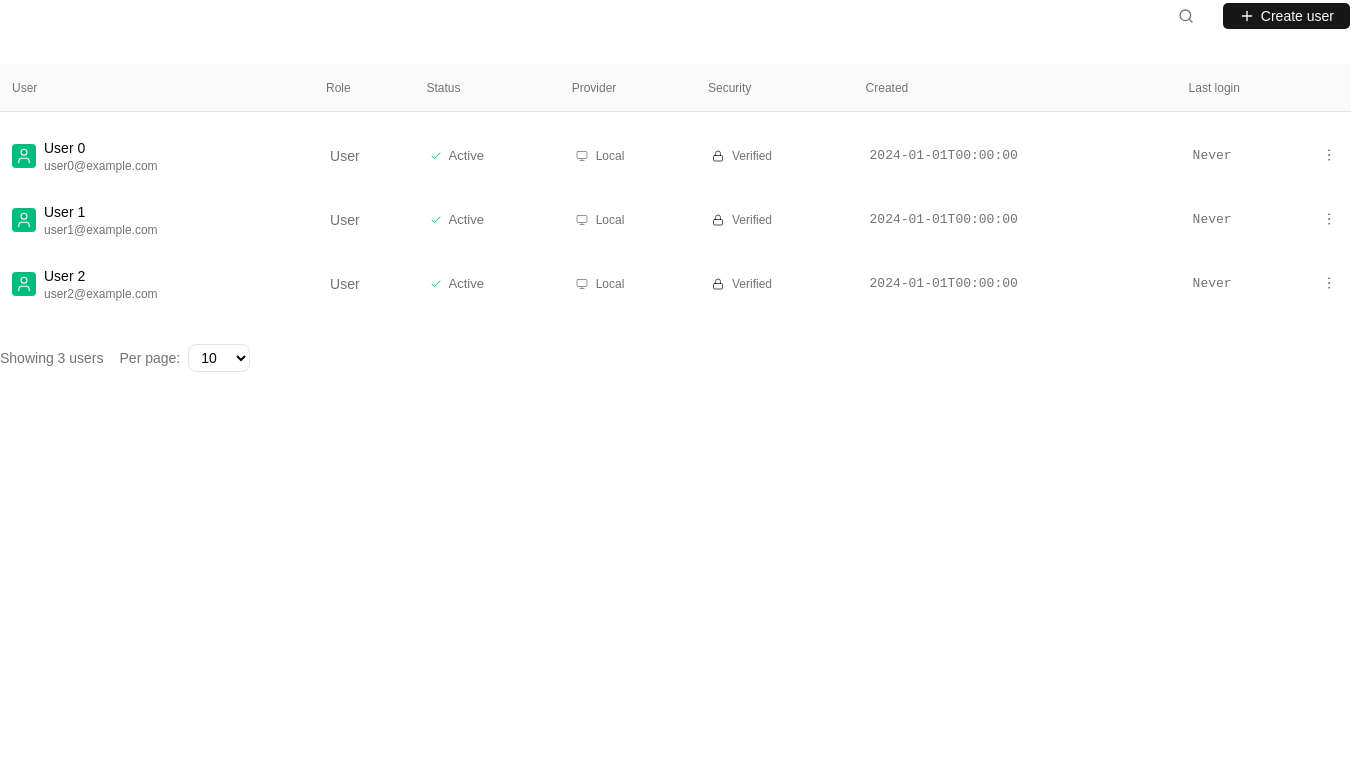
Scenario: Users › removes user from list and shows success toast after API responds
This screenshot has width=1366, height=768.
expect the text "user0@example.com" is shown: met, box 44,158 -> 158,174
Click the button named "Actions for User 0". click: click(1329, 154)
box: 1319,144 -> 1339,164
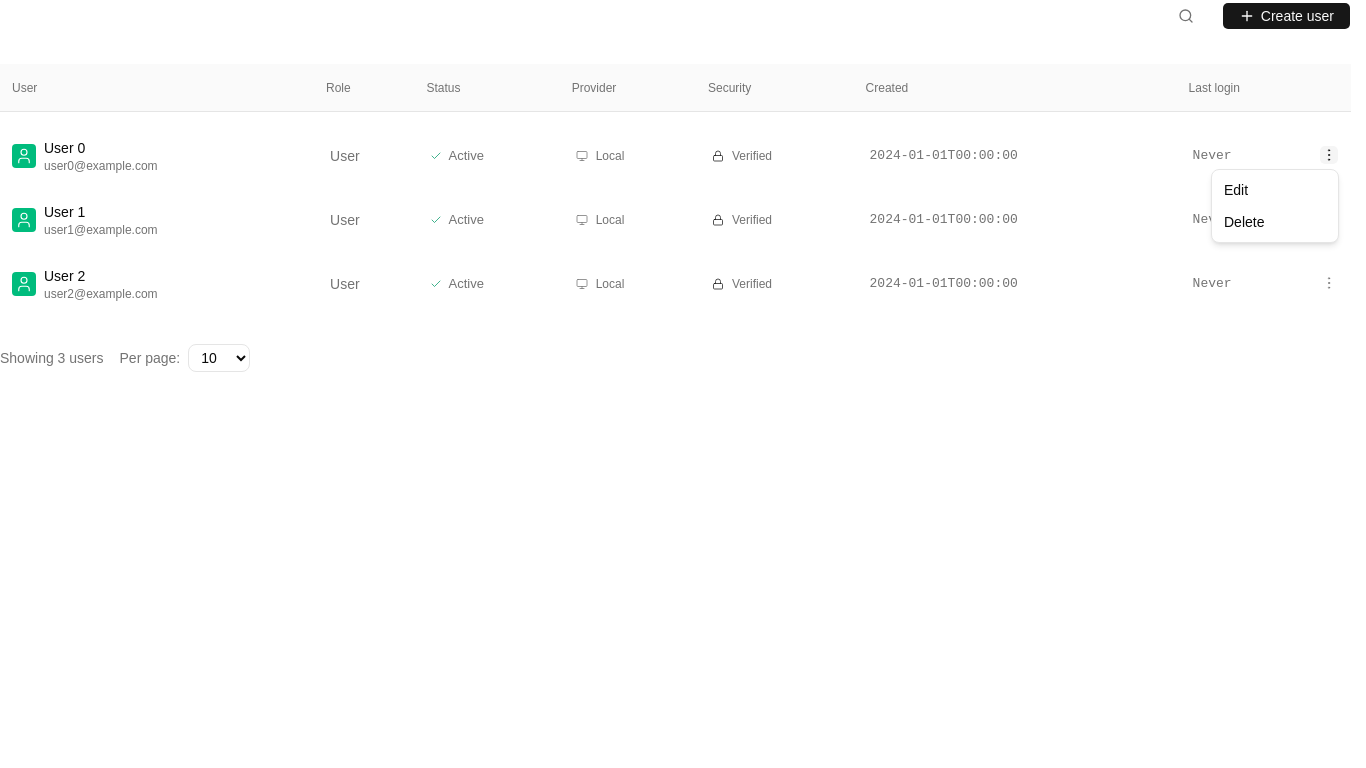
Click the menu item "Delete". click: click(1244, 222)
box: 1224,214 -> 1264,230
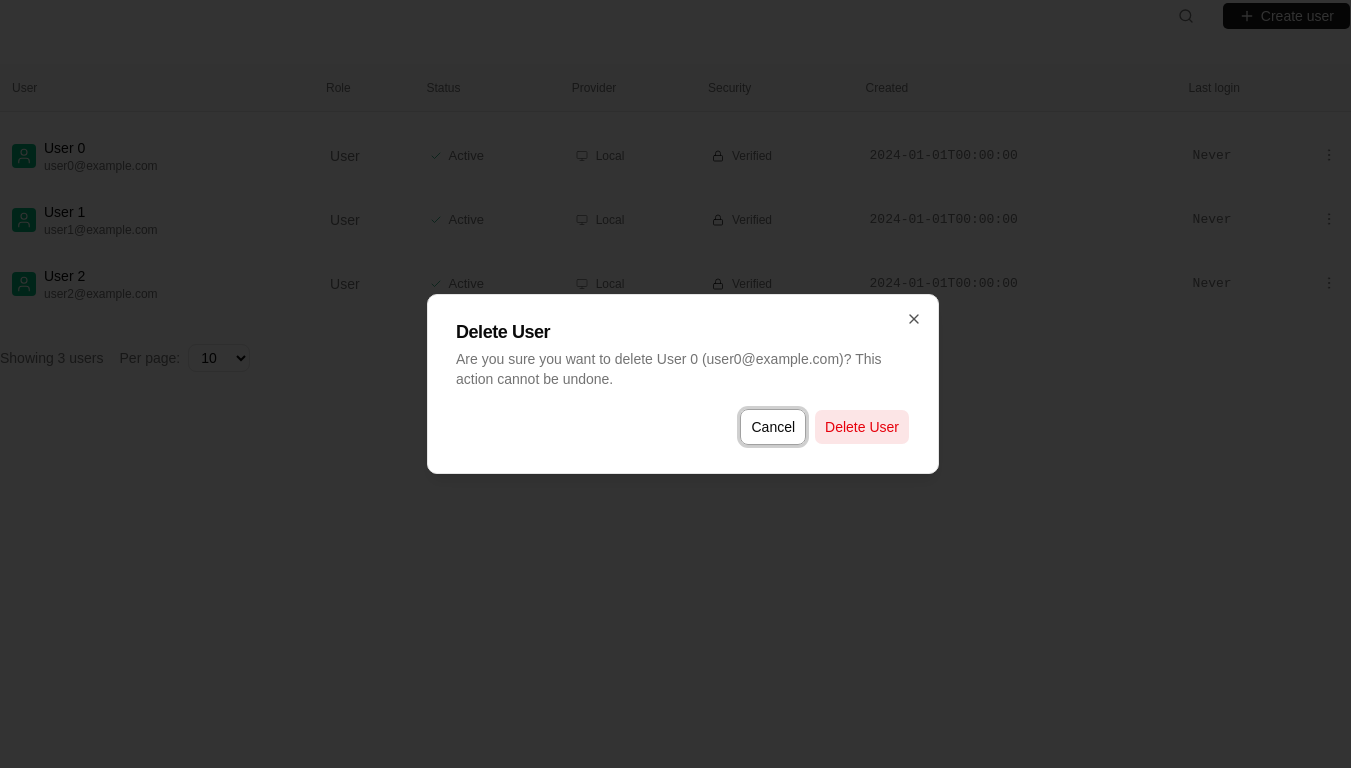
Click the button "Delete User". click: click(862, 427)
box: 814,409 -> 910,445
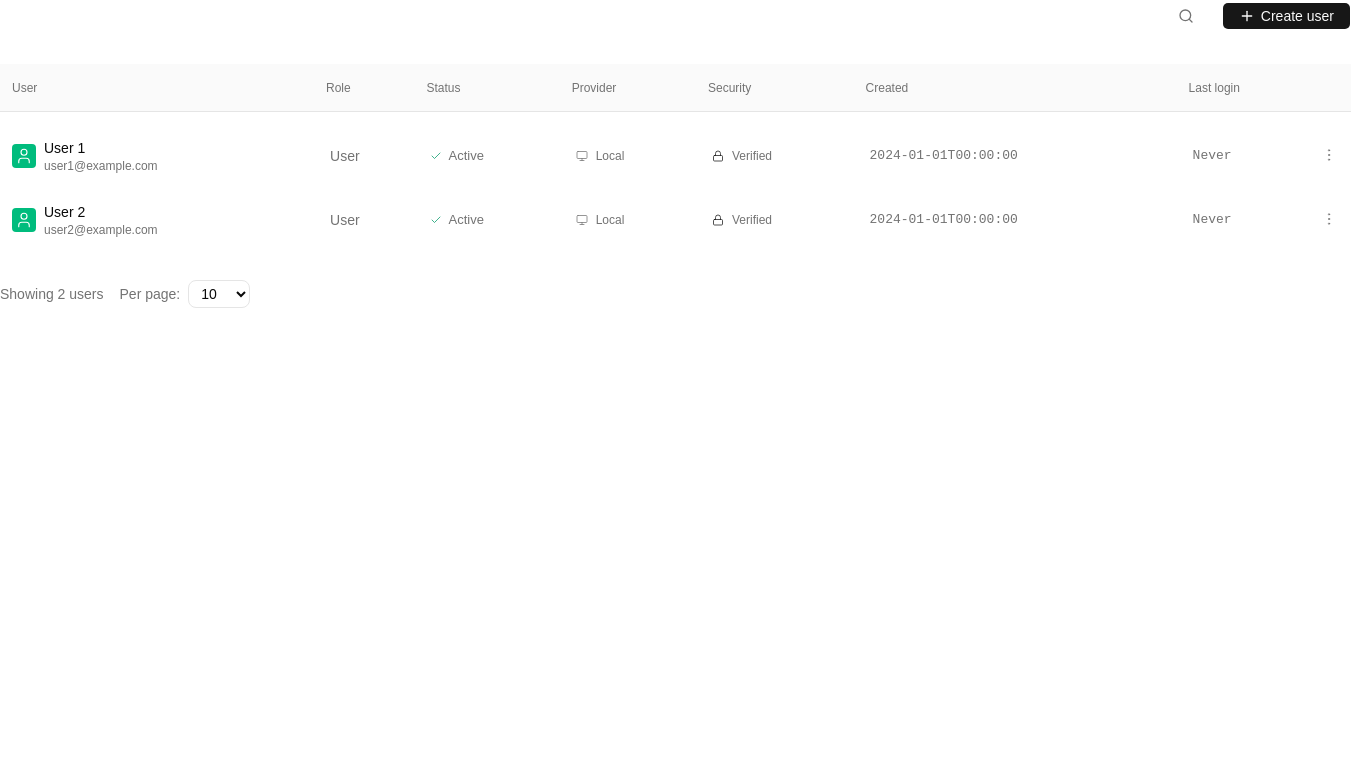
expect the text "user1@example.com" is shown: met, box 44,158 -> 158,174
expect the text "user0@example.com" is gone: met
